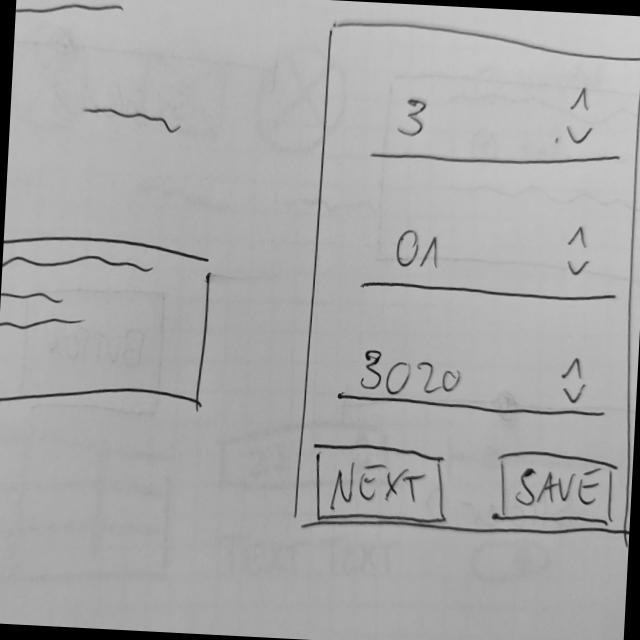button: (310, 440, 452, 530), (493, 447, 620, 528)
container: (288, 14, 640, 548)
number-input: (365, 72, 628, 180), (359, 208, 623, 307), (336, 336, 612, 425)
text: (78, 104, 187, 143), (16, 1, 131, 27)
textbox: (1, 232, 216, 423)
